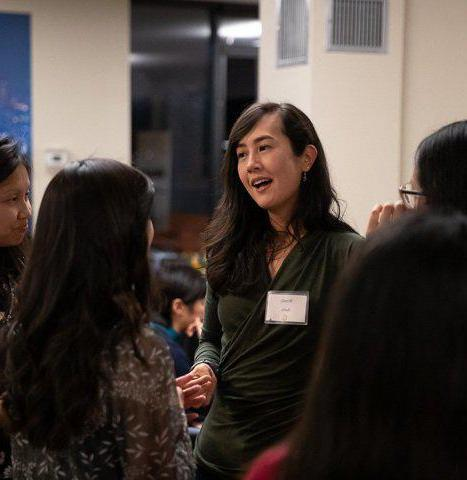Sober: (234, 135, 290, 203)
